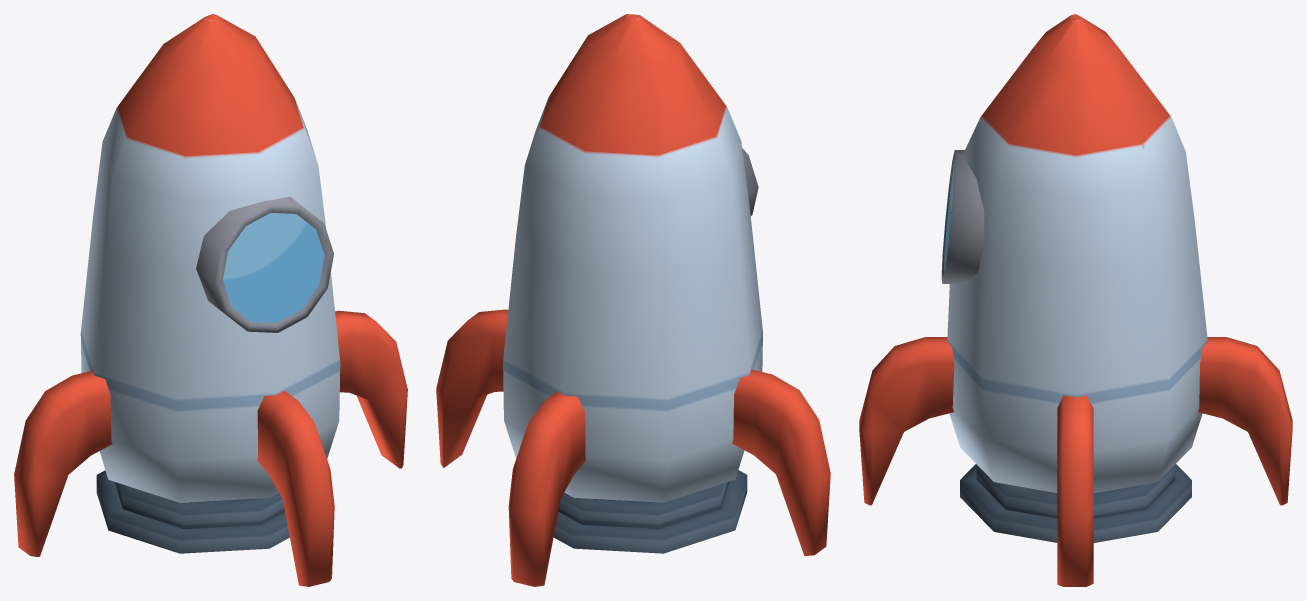
File: SM_Rocket_KETNET.fbx
3 renders of one model, left to right at view 1: azimuth 30°, elevation 25°; view 2: azimuth 150°, elevation 25°; view 3: azimuth 270°, elevation 25°, orthographic. The views are drawn at different scales.
Visible parts, largest first — view 1: SM_SpaceShip; view 2: SM_SpaceShip; view 3: SM_SpaceShip.
Part boxes in pixels (<box>): SM_SpaceShip: <box>14,14,407,586</box>; SM_SpaceShip: <box>436,14,830,586</box>; SM_SpaceShip: <box>859,14,1292,586</box>.
Bounding box in the file's own units: 374 × 463 × 374.
